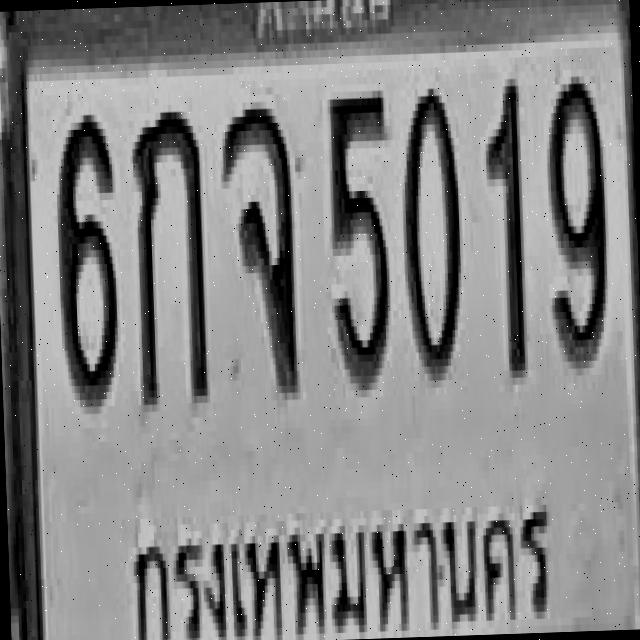0: (398, 80, 464, 380)
1: (483, 74, 528, 374)
10GorGai: (130, 103, 208, 404)
17ChorChan: (220, 100, 298, 394)
5: (325, 82, 394, 390)
6: (54, 107, 120, 407)
9: (544, 72, 610, 365)
Bangkok: (116, 497, 566, 640)
